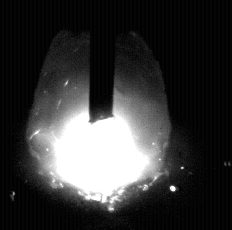arame: (89, 0, 115, 123)
poca: (26, 0, 170, 230)
